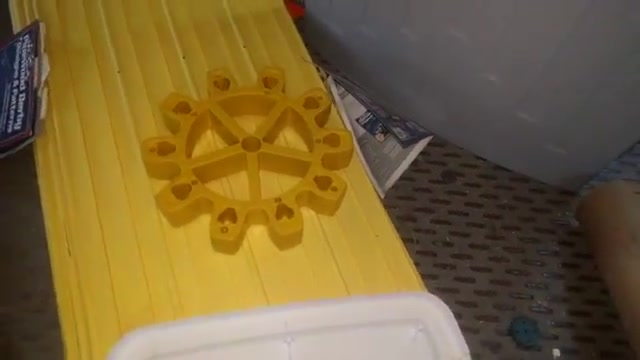gear: (145, 59, 363, 264)
